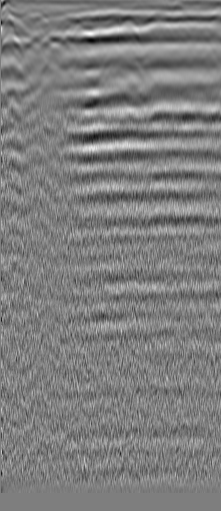오수: (23, 7, 49, 28)
우수: (145, 10, 171, 37)
